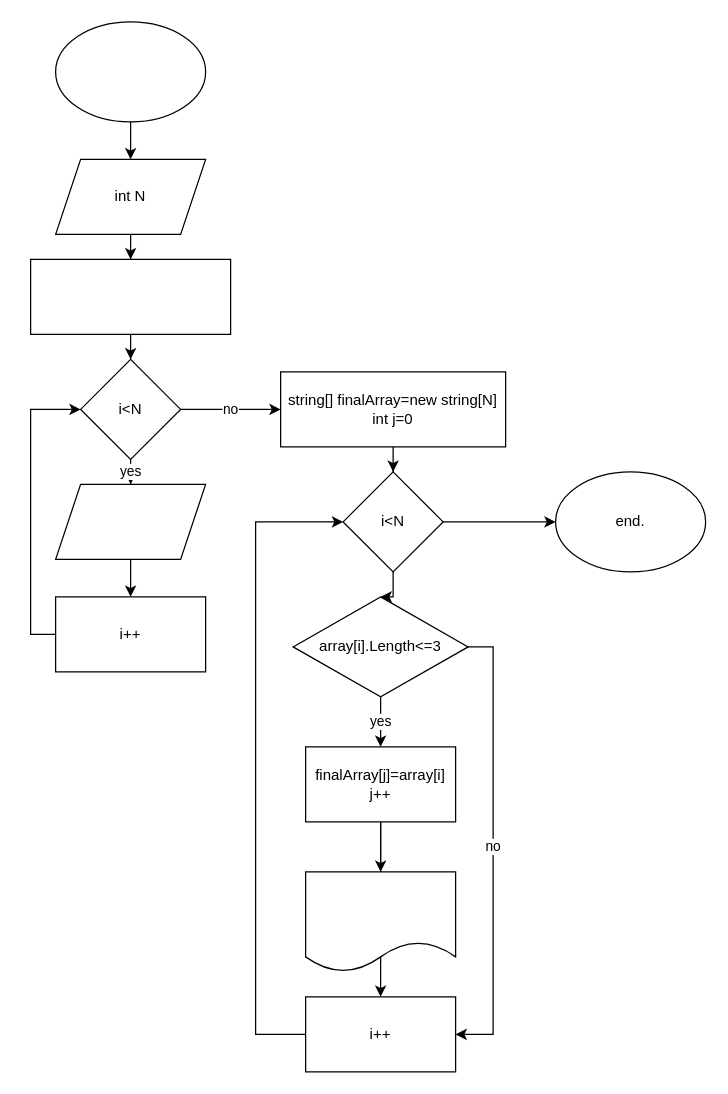
This 728x1094 diagram has some shape labels left out. Here are the shapes that lost their labels. From the top down, the centre of each, then its label:
the point at 130,71: start
the point at 130,296: string[] array=new string[N] int i=0
the point at 130,521: array[i]
the point at 380,921: print finalArray[j]
